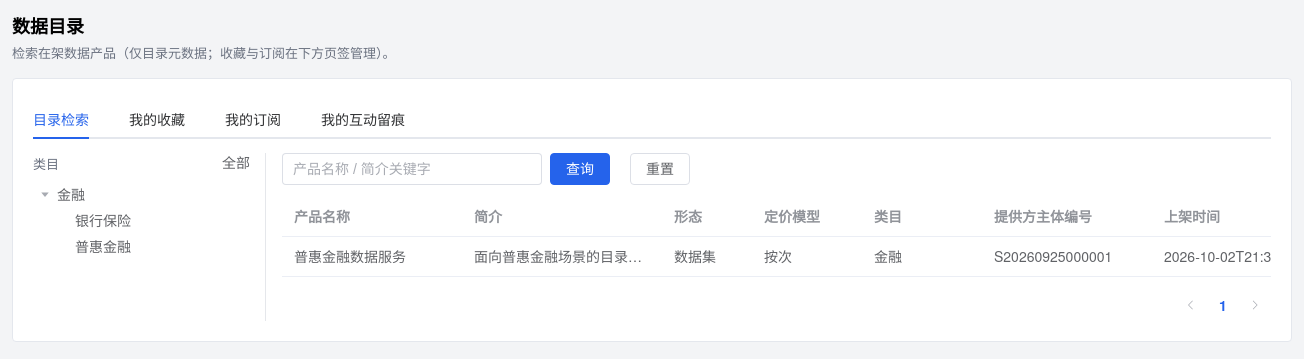
Scenario: 我的收藏 / 我的订阅（T8） › 收藏页签空态：空列表展示统一空态文案（不是报错）
The image size is (1304, 359).
Click the tab with id "tab-favorites" at (157, 119), box [129, 109, 185, 129]
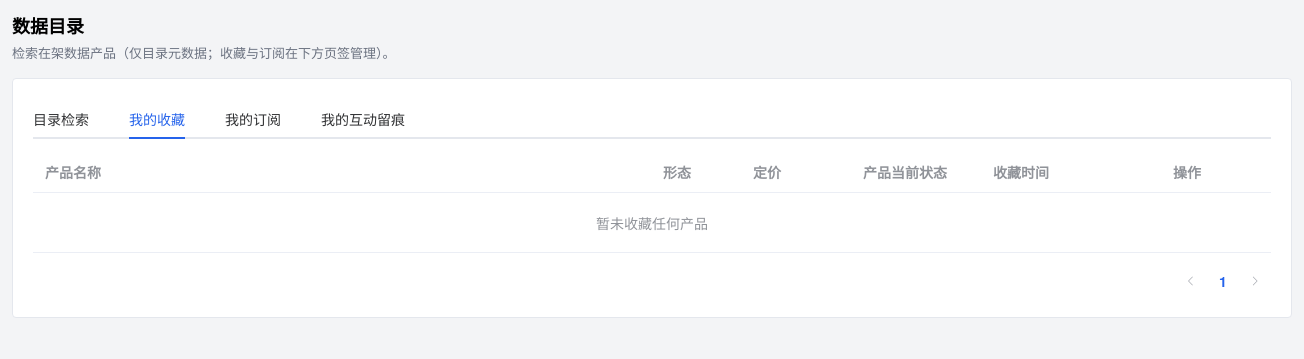
Now the text "暂未收藏任何产品" is shown, box [596, 213, 708, 233]
